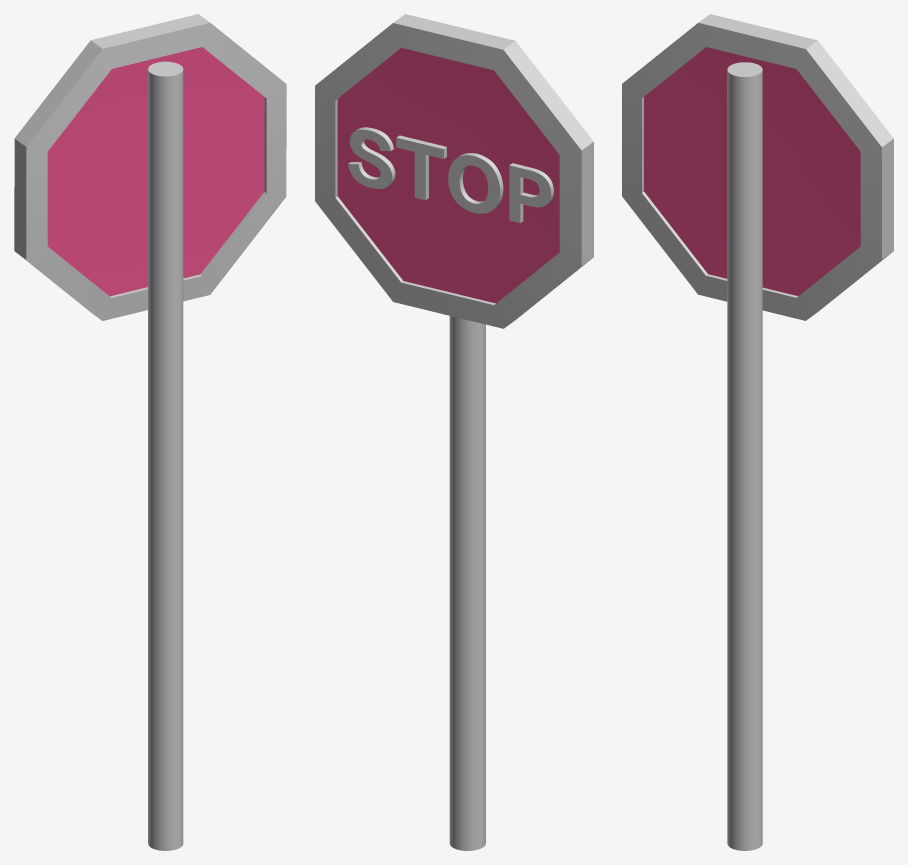
Rendered from stop_sign.gltf.
The picture shows the model from 3 angles, left to right: view 1: azimuth 30°, elevation 25°; view 2: azimuth 150°, elevation 25°; view 3: azimuth 330°, elevation 25°; orthographic projection. The views are drawn at different scales.
Parts seen in each view (by area): view 1: 立方体.1; view 2: 立方体.1; view 3: 立方体.1.
Boxes of the visible parts, <box> form: 立方体.1: <box>14,14,286,850</box>; 立方体.1: <box>315,14,593,850</box>; 立方体.1: <box>622,14,893,850</box>.
Bounding box in the file's own units: 167 × 493 × 33.57.
